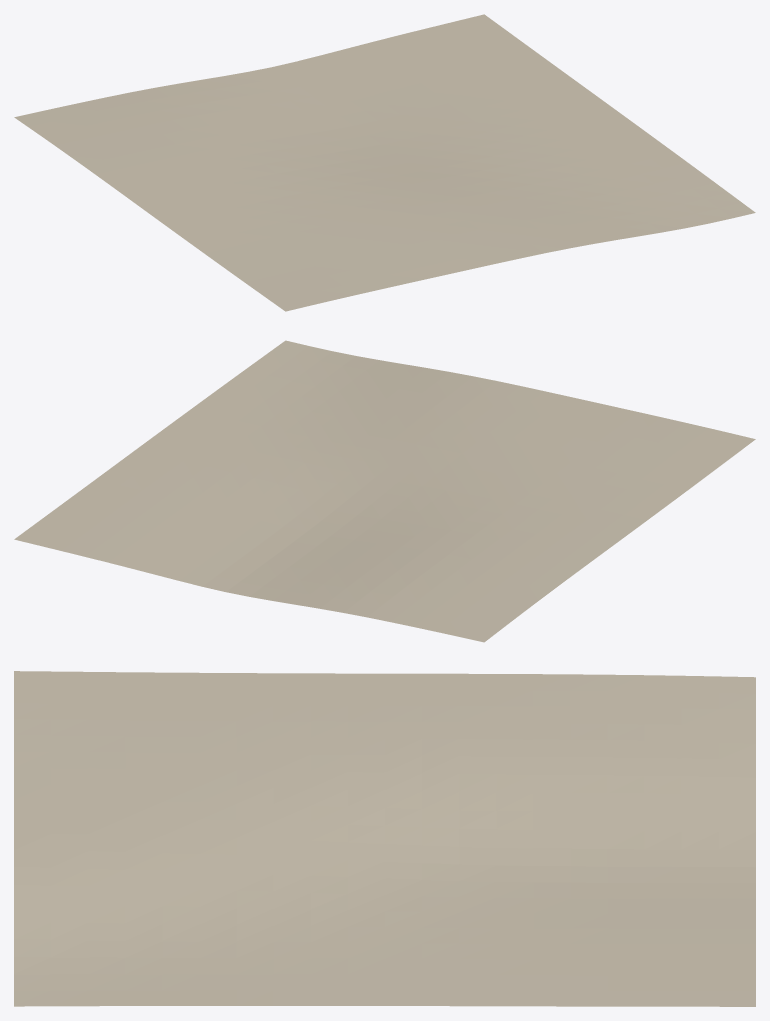
File: bolak_14_-1.glb
The picture shows the model from 3 angles, top to bottom: view 1: azimuth 30°, elevation 25°; view 2: azimuth 150°, elevation 25°; view 3: azimuth 270°, elevation 25°; orthographic projection. The views are drawn at different scales.
Visible parts, largest first — view 1: Yer_Tuproq-col; view 2: Yer_Tuproq-col; view 3: Yer_Tuproq-col.
Part boxes in pixels (bbox=[...]): Yer_Tuproq-col: bbox=[14, 14, 755, 311]; Yer_Tuproq-col: bbox=[14, 340, 755, 642]; Yer_Tuproq-col: bbox=[14, 671, 755, 1006].
Bounding box in the file's own units: 400 × 14.28 × 400.
